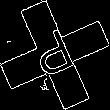P_SE: (28, 24, 82, 86)
